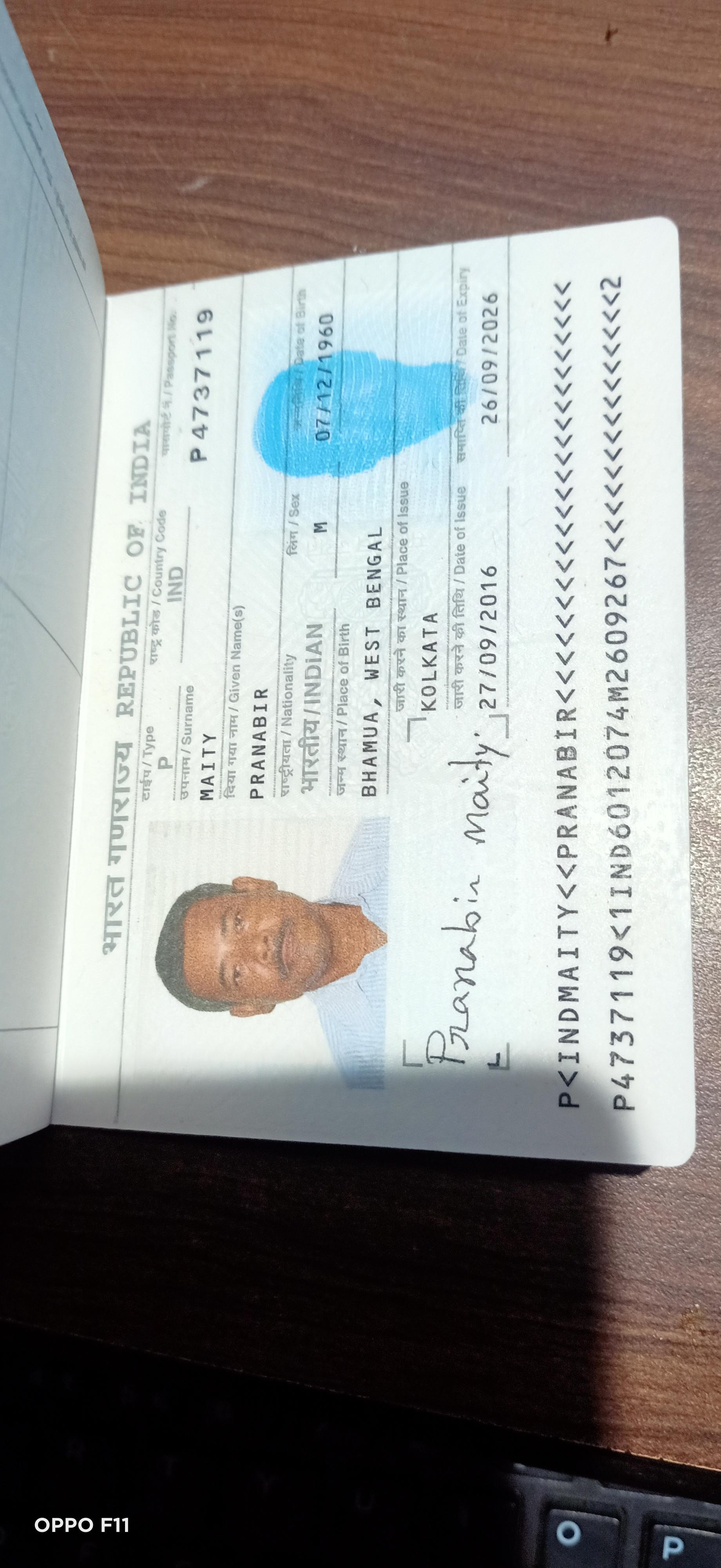DOB: (312, 307, 349, 453)
Surname: (197, 723, 222, 810)
country_code: (162, 561, 194, 609)
date_of_expiry: (475, 286, 507, 432)
date_of_issue: (474, 554, 512, 720)
details: (536, 260, 648, 1124)
name: (249, 681, 273, 811)
nationality: (298, 612, 326, 801)
passport_no: (184, 301, 223, 477)
photo: (146, 821, 384, 1079)
place_of_birth: (353, 520, 388, 806)
place_of_issue: (413, 601, 448, 728)
sex: (304, 507, 333, 551)
sign: (426, 736, 523, 1067)
type: (153, 740, 179, 788)
